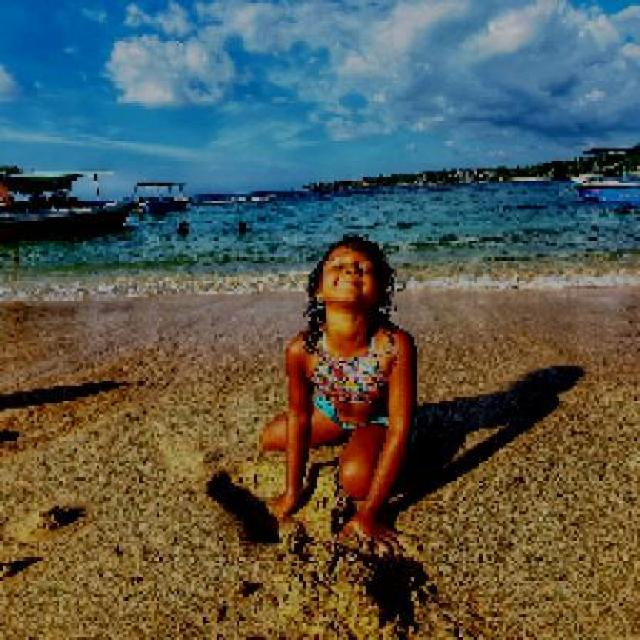child: (258, 236, 422, 558)
